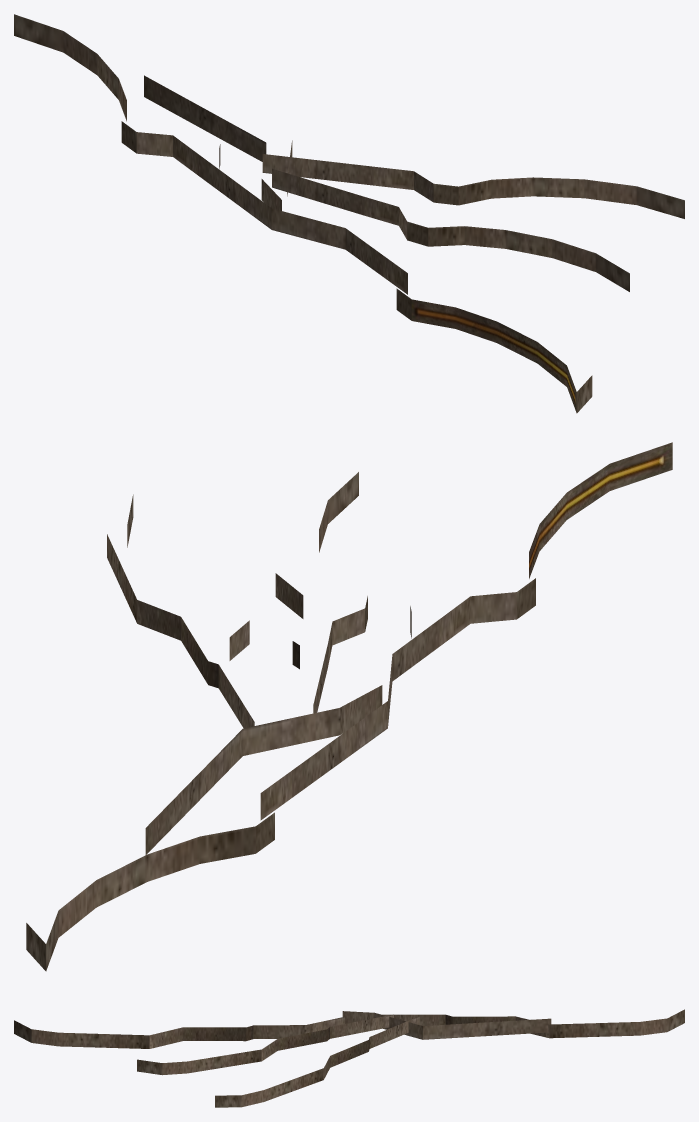
3 views of the same model, one above another, from view 1: azimuth 30°, elevation 25°; view 2: azimuth 150°, elevation 25°; view 3: azimuth 270°, elevation 25° (orthographic). The views are drawn at different scales.
Parts seen in each view (by area): view 1: model_Object26; view 2: model_Object26; view 3: model_Object26.
Part boxes in pixels (left/top/right/bottom): model_Object26: left=14, top=14, right=684, bottom=413; model_Object26: left=26, top=442, right=672, bottom=971; model_Object26: left=14, top=1009, right=684, bottom=1107.
Size of the model in its own units: 3.83 by 0.3633 by 10.61.
Materials: 2 (2 with a texture image).
